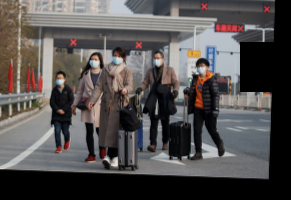with_mask: (87, 57, 101, 68), (53, 75, 65, 87), (111, 53, 123, 65), (151, 55, 162, 67), (196, 63, 206, 74)
